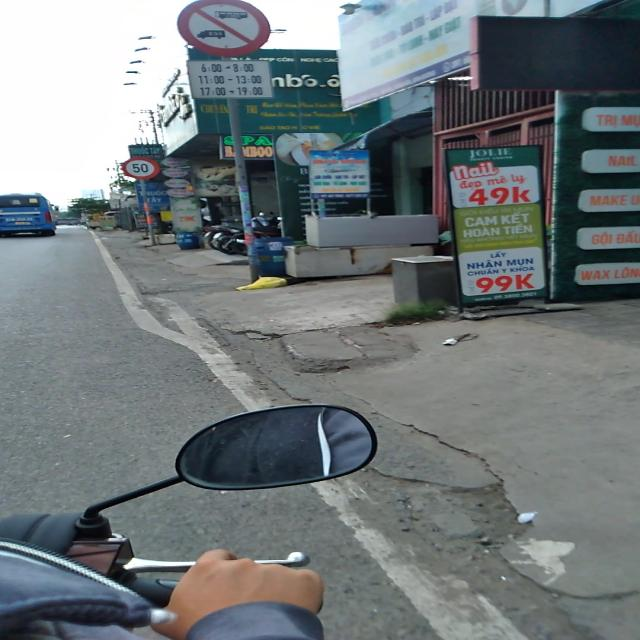Cam con lai: (172, 0, 272, 60)
Toc do toi da: (121, 157, 160, 180)
